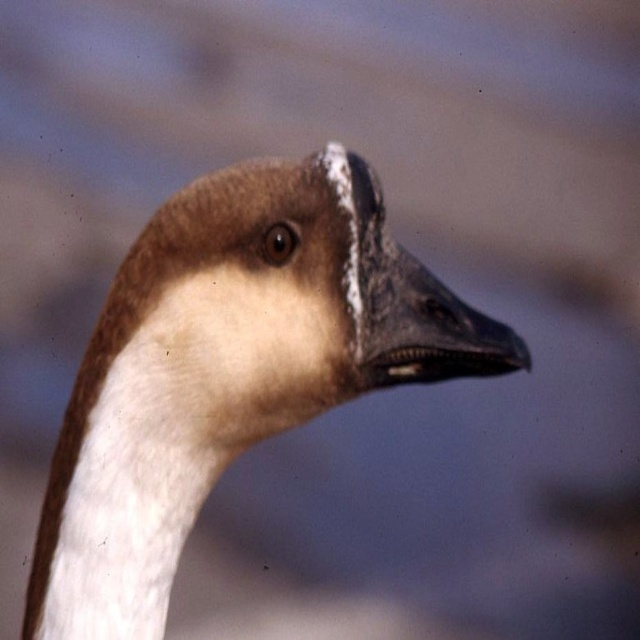Duck: (0, 128, 553, 616)
